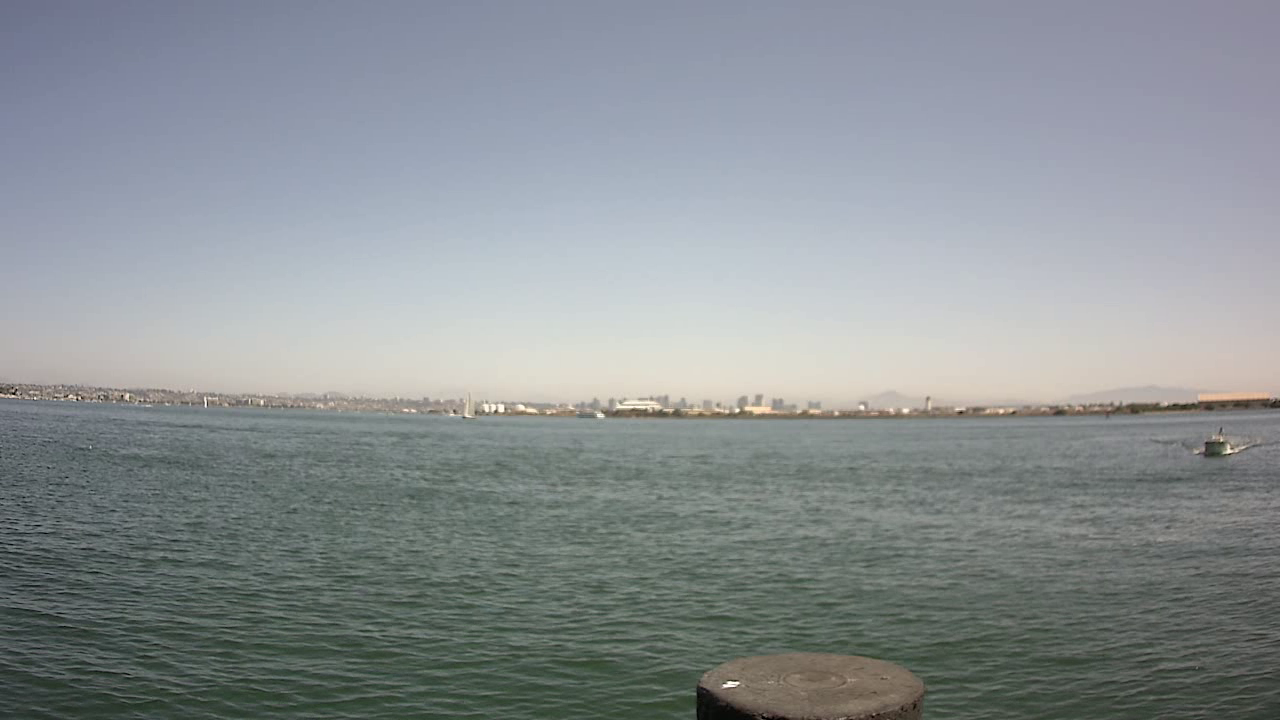target: (1186, 420, 1251, 462)
